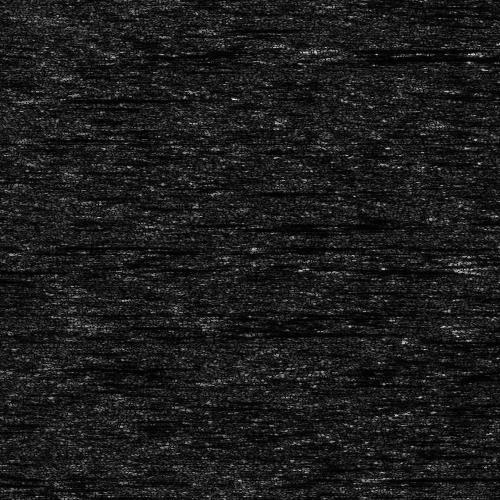object: (298, 39, 371, 56), (299, 50, 382, 61), (444, 259, 497, 274), (319, 265, 372, 274), (233, 244, 286, 249), (10, 97, 63, 100), (33, 243, 74, 246)
shadow: (334, 39, 500, 56), (340, 50, 500, 61), (346, 265, 426, 274), (243, 330, 396, 333), (37, 97, 179, 100), (54, 243, 195, 246), (260, 244, 337, 249)
